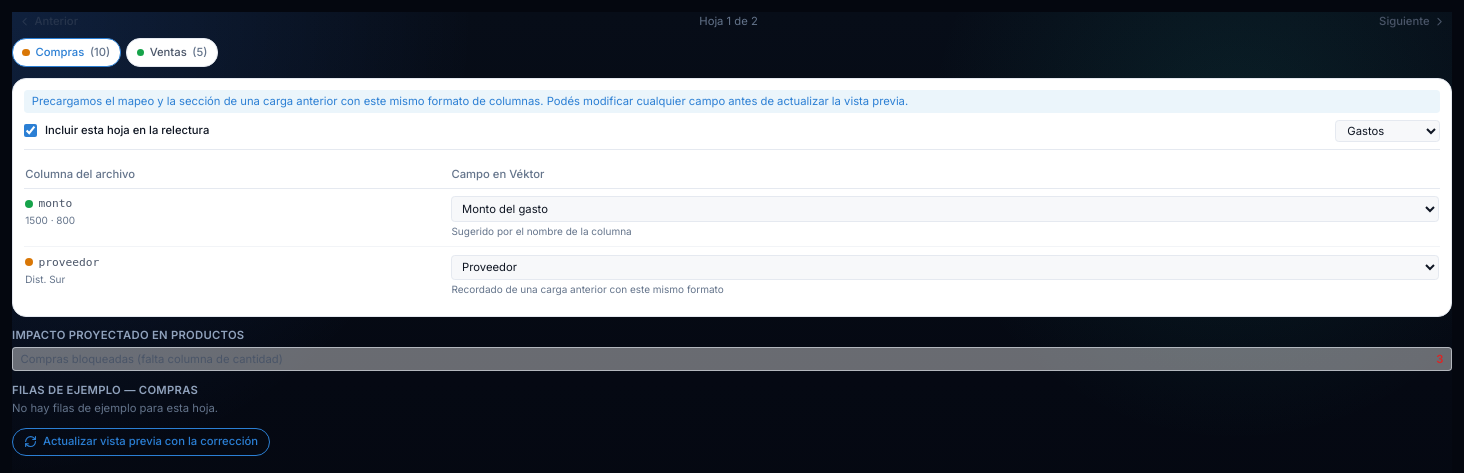
FileInterpretationReview › Bloque 5 (consumo) — decisiones recordadas › precarga el mapeo recordado, lo muestra como tal, y sigue siendo editable
Expected: the text "Recordado de una carga anterior con este mismo formato" is shown, [451,283,724,295]
Expected: the text "Precargamos el mapeo y la sección de una carga anterior" is shown, [32,94,908,108]
Note: Editable: el usuario lo cambia y el cambio se respeta.
Select "Monto del gasto" in the dropdown in the row of "proveedor". click: (945,267)
box: [451,255,1439,280]
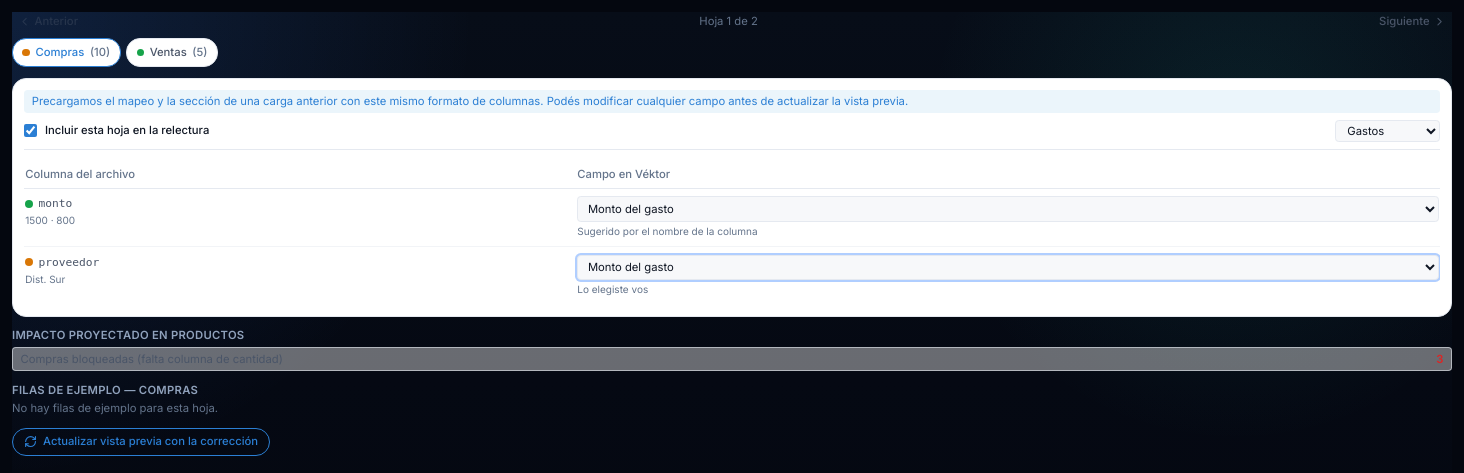
Now the text "Recordado de una carga anterior con este mismo formato" is gone
